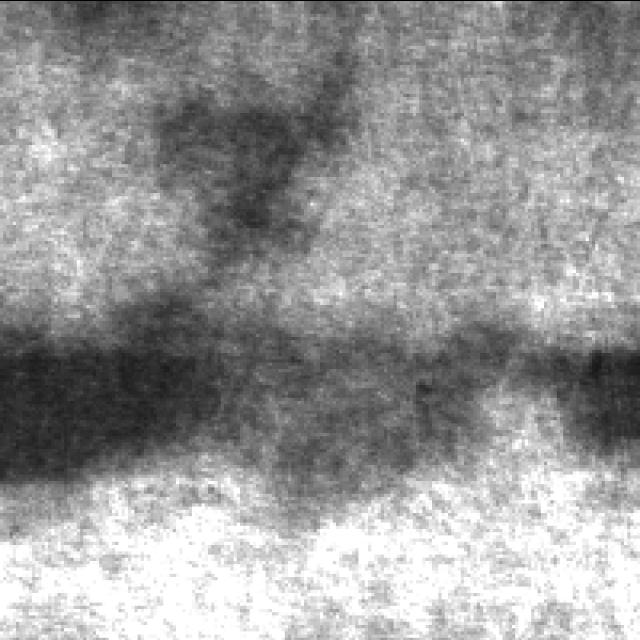patches: (0, 298, 253, 540), (270, 277, 504, 531), (157, 76, 330, 248), (534, 331, 640, 465)
